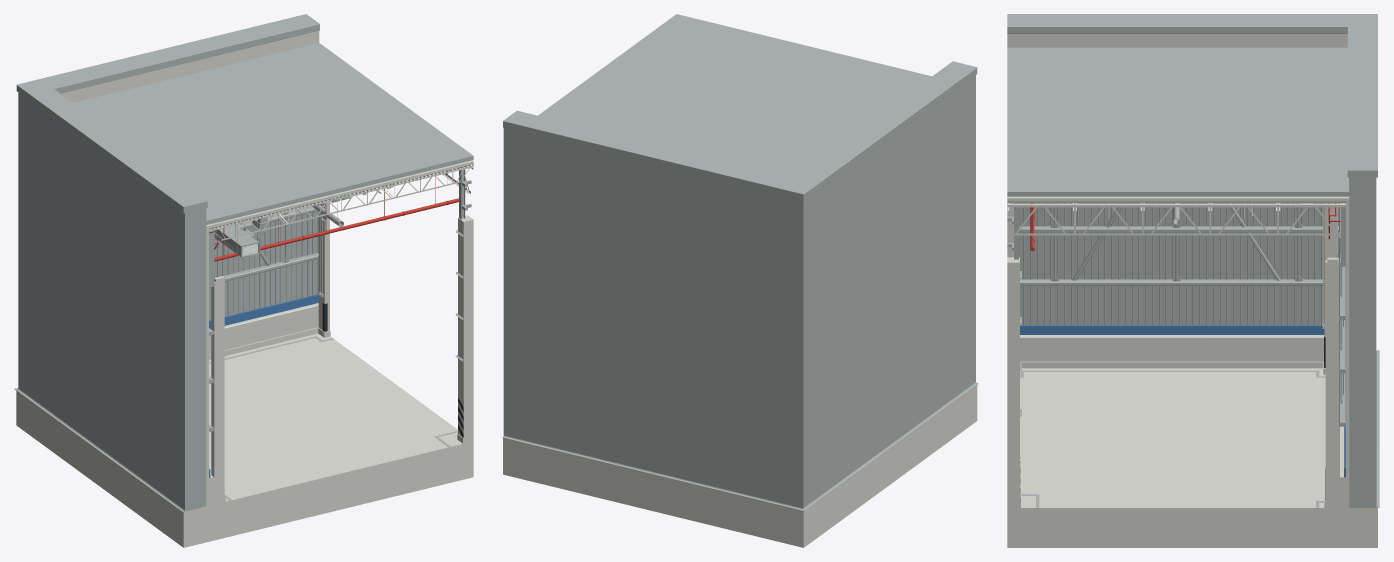
File: modular_warehouse_h10m_corner_in_a01.glb
3 views of the same model, side by side, from view 1: azimuth 30°, elevation 25°; view 2: azimuth 150°, elevation 25°; view 3: azimuth 270°, elevation 25° (orthographic). The views are drawn at different scales.
Bounding box in the file's own units: 11 × 12.3 × 11.
